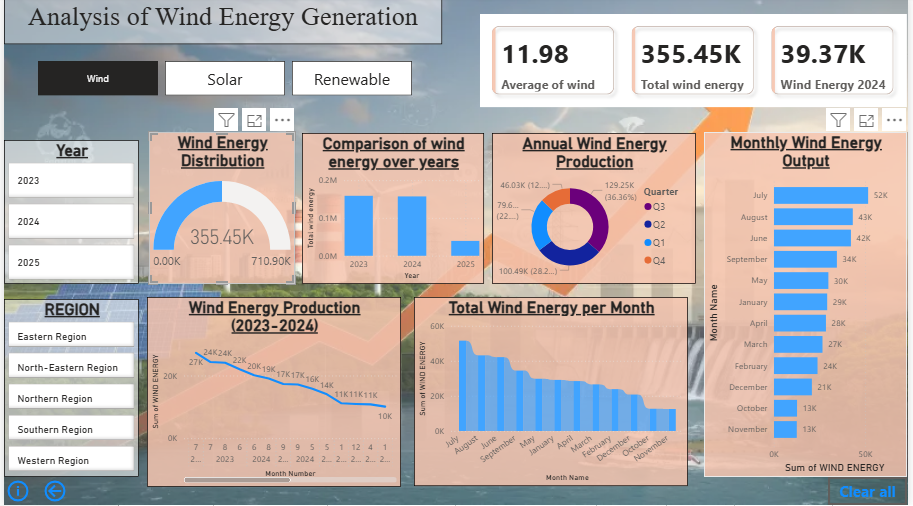

The dashboard page shown, as its layout file describes it:
{"tool":"powerbi","page":{"name":"Wind  ","canvas":[1280,720],"ordinal":4},"visuals":[{"type":"textbox","box":[0,0,620.8,66.6],"z":0},{"type":"actionButton","box":[0,680.3,46.8,39.7],"z":1000},{"type":"actionButton","box":[52.4,680.3,43.9,39.7],"z":2000},{"type":"actionButton","box":[1167.9,680.3,112,39.7],"z":3000},{"type":"barChart","title":"Monthly Wind Energy Output","fields":{"Category":["Calendar.Month Name"],"Y":["Sum(Daily Energy Generation.WIND ENERGY)"]},"box":[992.1,191.3,287.7,489],"z":4000},{"type":"pageNavigator","box":[48.2,90.7,532.9,49.6],"z":5000},{"type":"lineChart","title":"Wind Energy Production (2023-2024)","fields":{"Category":["Calendar.Year","Calendar.Month Number"],"Y":["Sum(daily enery resource.WIND ENERGY)"]},"box":[202.7,425.2,360,269.3],"z":6000},{"type":"stackedAreaChart","title":"Wind Energy Distribution Across Regions","fields":{"Category":["daily enery resource.REGION"],"Y":["Sum(Daily Energy Generation.WIND ENERGY)"]},"box":[205.5,191.3,206.9,215.4],"z":7000},{"type":"ribbonChart","title":" Total Wind Energy per Month","fields":{"Y":["Sum(daily enery resource.WIND ENERGY)"],"Category":["Calendar.Month Name"]},"box":[581.1,425.2,388.3,267.9],"z":8000},{"type":"donutChart","title":"Annual Wind Energy Production","fields":{"Y":["Sum(Daily Energy Generation.WIND ENERGY)"],"Category":["Calendar.Quarter"]},"box":[691.7,192.8,289.1,214],"z":9000},{"type":"lineClusteredColumnComboChart","title":"Comparison of  wind energy over years","fields":{"Y":["wind energy measures.Total wind energy"],"Category":["Calendar.Year"]},"box":[422.4,192.8,258,214],"z":10000},{"type":"advancedSlicerVisual","fields":{"Values":["Calendar.Year"]},"box":[0,202.7,191.3,204.1],"z":11000},{"type":"advancedSlicerVisual","fields":{"Values":["daily enery resource.REGION"]},"box":[0,428,191.3,252.3],"z":12000},{"type":"cardVisual","fields":{"Data":["wind energy measures.Average of wind","wind energy measures.Total wind energy","wind energy measures.YTD"]},"box":[674.6,24.1,605.2,131.8],"z":13000}]}

Visuals, with their boxes in screenshot pixels (x1, y1, x2, y2), scaled from the page's 1280x720 canvas onto the 913x506 screenshot:
textbox: detection(0, 0, 443, 47)
actionButton: detection(0, 478, 33, 505)
actionButton: detection(37, 478, 69, 505)
actionButton: detection(833, 478, 912, 505)
"Monthly Wind Energy Output" barChart: detection(708, 134, 912, 478)
pageNavigator: detection(34, 64, 414, 99)
"Wind Energy Production (2023-2024)" lineChart: detection(145, 299, 401, 488)
"Wind Energy Distribution Across Regions" stackedAreaChart: detection(147, 134, 294, 286)
" Total Wind Energy per Month" ribbonChart: detection(414, 299, 691, 487)
"Annual Wind Energy Production" donutChart: detection(493, 135, 700, 286)
"Comparison of  wind energy over years" lineClusteredColumnComboChart: detection(301, 135, 485, 286)
advancedSlicerVisual - Calendar.Year: detection(0, 142, 136, 286)
advancedSlicerVisual - daily enery resource.REGION: detection(0, 301, 136, 478)
cardVisual - wind energy measures.Average of wind x wind energy measures.Total wind energy: detection(481, 17, 912, 110)
